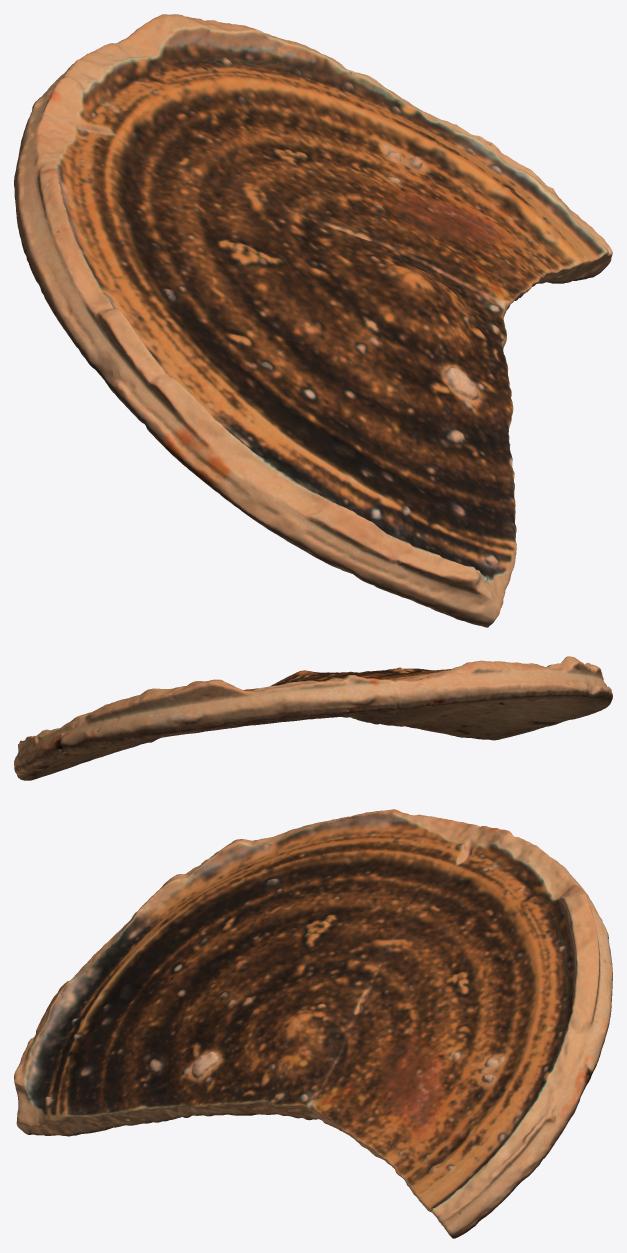
3 views of the same model, one above another, from view 1: azimuth 30°, elevation 25°; view 2: azimuth 150°, elevation 25°; view 3: azimuth 270°, elevation 25° (orthographic). The views are drawn at different scales.
Parts seen in each view (by area): view 1: Node; view 2: Node; view 3: Node.
Part boxes in pixels (<box>): Node: <box>14,14,612,627</box>; Node: <box>14,656,612,780</box>; Node: <box>14,809,612,1238</box>.
Size of the model in its own units: 114 by 56.96 by 118.
1 material, 1 textured.
